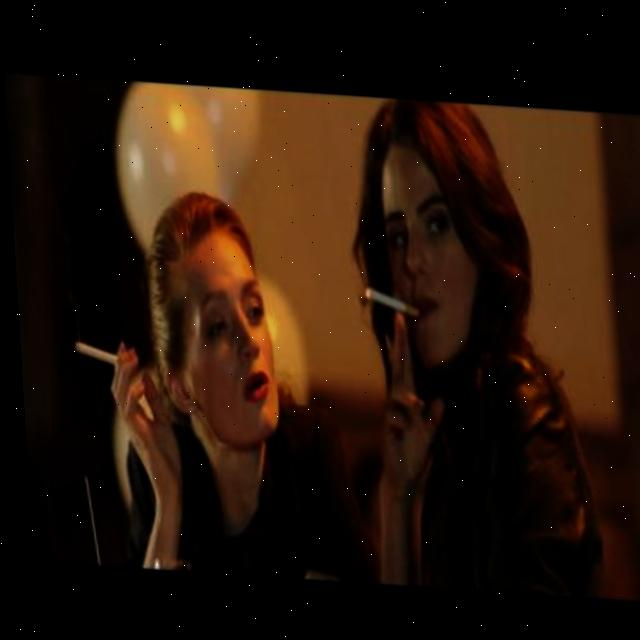cigarette: (361, 277, 415, 316), (69, 337, 117, 367)
